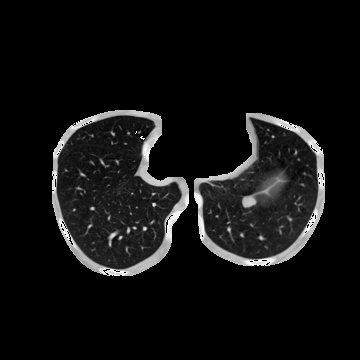PN: (242, 195, 254, 207)
